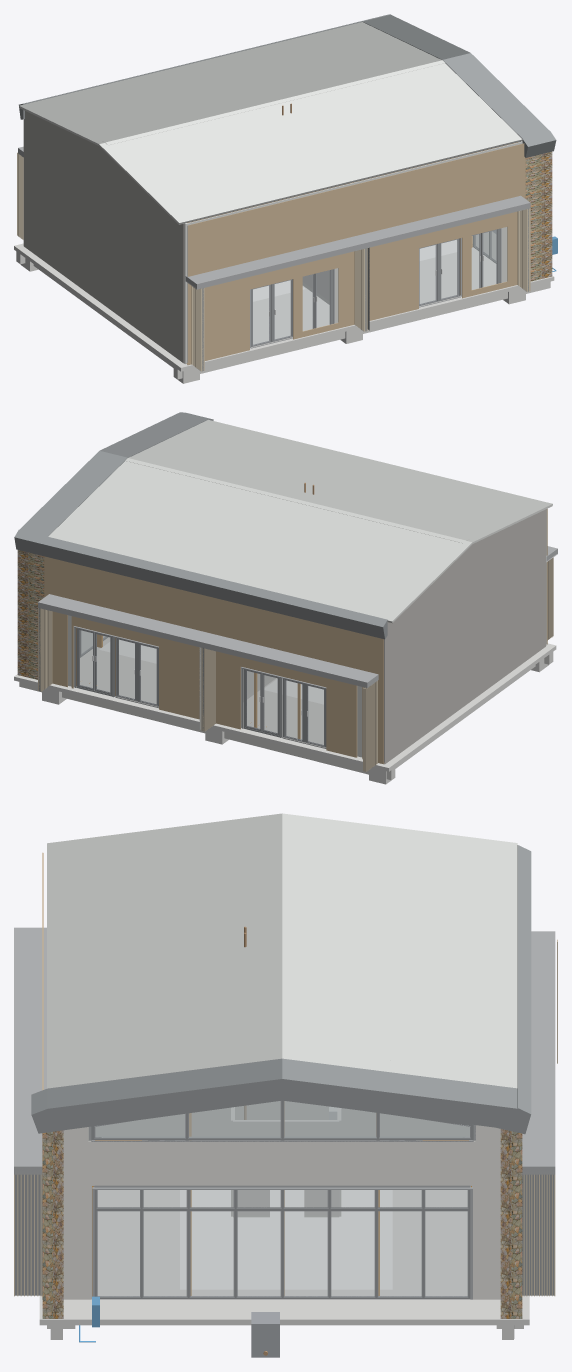
The model's file is NAVE_1_COMERCIAL.glb.
The picture shows the model from 3 angles, top to bottom: view 1: azimuth 30°, elevation 25°; view 2: azimuth 150°, elevation 25°; view 3: azimuth 270°, elevation 25°; orthographic projection. The views are drawn at different scales.
Visible parts, largest first — view 1: Geom3D (×48), Geom3D_CENEFA#10_CENEFA; view 2: Geom3D (×51), Cara_cierre_2, Geom3D_CENEFA#10_CENEFA, Cara_cierre_0, Cara_cierre_1, Cara_cierre_3; view 3: Geom3D (×52), Geom3D_CENEFA#10_CENEFA.
Boxes of the visible parts, left/top/right/bottom form: Geom3D (×48): left=14, top=14, right=556, bottom=383; Geom3D_CENEFA#10_CENEFA: left=363, top=14, right=470, bottom=59; Geom3D (×51): left=14, top=412, right=556, bottom=784; Cara_cierre_2: left=159, top=637, right=240, bottom=729; Geom3D_CENEFA#10_CENEFA: left=19, top=451, right=127, bottom=536; Cara_cierre_0: left=326, top=678, right=357, bottom=757; Cara_cierre_1: left=240, top=657, right=326, bottom=687; Cara_cierre_3: left=73, top=616, right=158, bottom=646; Geom3D (×52): left=14, top=813, right=557, bottom=1357; Geom3D_CENEFA#10_CENEFA: left=282, top=1058, right=517, bottom=1108.
Size of the model in its own units: 16.36 by 7.44 by 13.3.
Materials: 34 (1 with a texture image).
